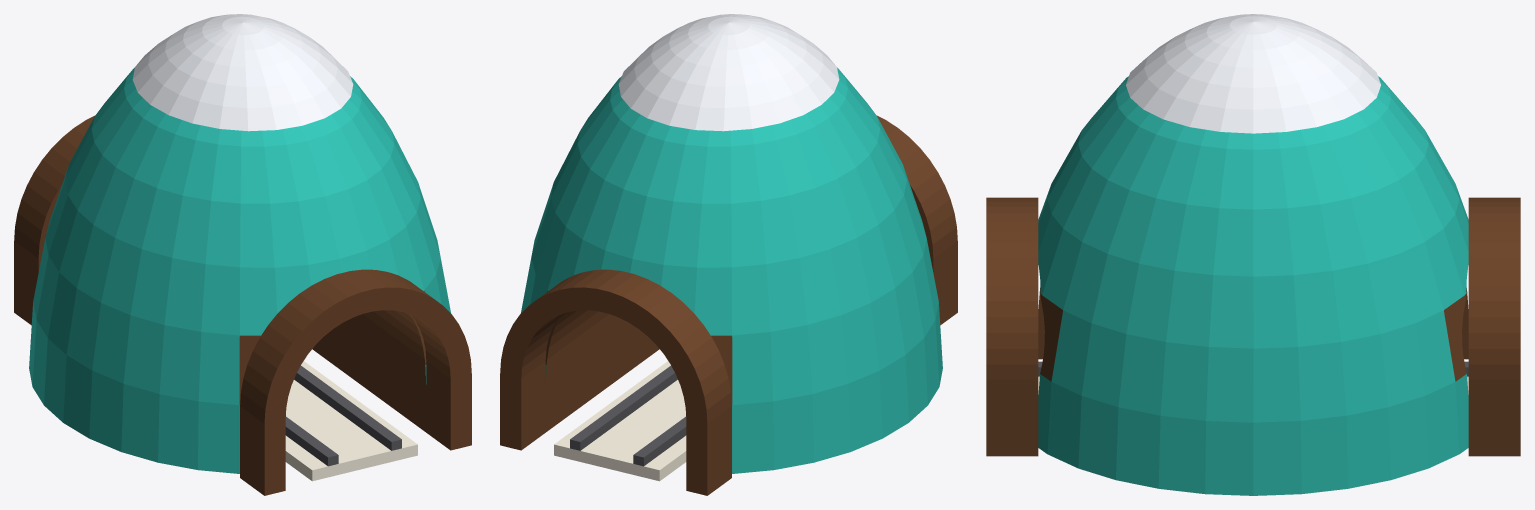
Rendered from tunnel.glb.
3 views of the same model, side by side, from view 1: azimuth 30°, elevation 25°; view 2: azimuth 150°, elevation 25°; view 3: azimuth 270°, elevation 25° (orthographic). The views are drawn at different scales.
Parts seen in each view (by area): view 1: tunnel_dome, tunnel_portal_exit, tunnel_snow_cap, tunnel_bed, tunnel_portal_entry, tunnel_rails; view 2: tunnel_dome, tunnel_portal_entry, tunnel_snow_cap, tunnel_bed, tunnel_portal_exit, tunnel_rails; view 3: tunnel_dome, tunnel_snow_cap, tunnel_portal_entry, tunnel_portal_exit.
Boxes of the visible parts, x1,y1,x2,y2 form: tunnel_dome: (29, 67, 450, 473); tunnel_portal_exit: (240, 269, 471, 495); tunnel_snow_cap: (132, 14, 353, 131); tunnel_bed: (285, 361, 417, 481); tunnel_portal_entry: (14, 115, 94, 325); tunnel_rails: (285, 365, 401, 466); tunnel_dome: (521, 67, 942, 473); tunnel_portal_entry: (500, 269, 731, 495); tunnel_snow_cap: (618, 14, 839, 131); tunnel_bed: (554, 361, 686, 481); tunnel_portal_exit: (877, 115, 957, 325); tunnel_rails: (570, 365, 686, 466); tunnel_dome: (1038, 76, 1468, 495); tunnel_snow_cap: (1126, 14, 1380, 133); tunnel_portal_entry: (1468, 197, 1520, 456); tunnel_portal_exit: (986, 197, 1038, 456).
Size of the model in its own units: 3.4 by 3.22 by 4.1.
